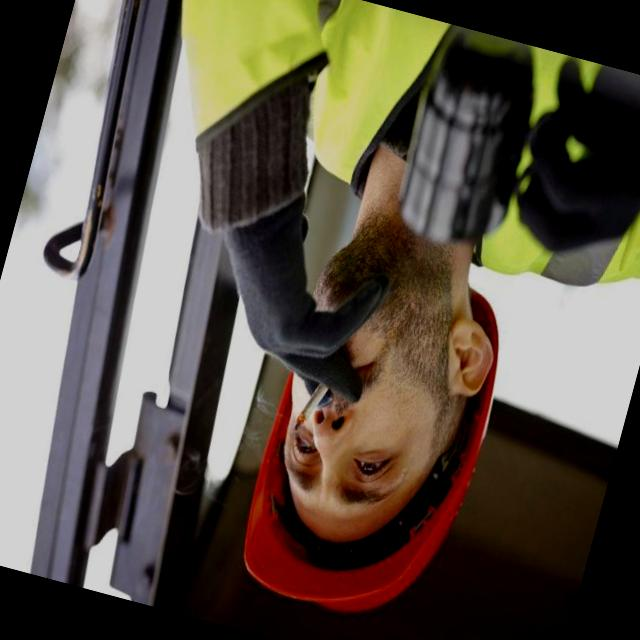smoke: (272, 340, 354, 455)
